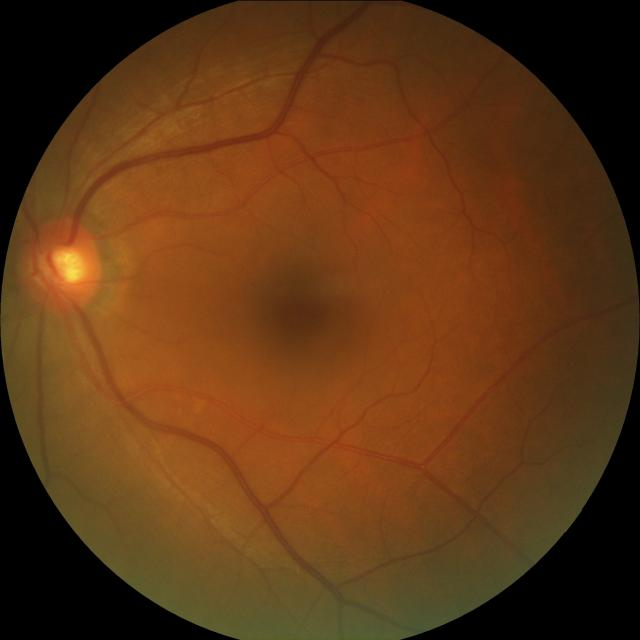OC: (38, 242, 84, 286)
OD: (16, 214, 102, 316)
